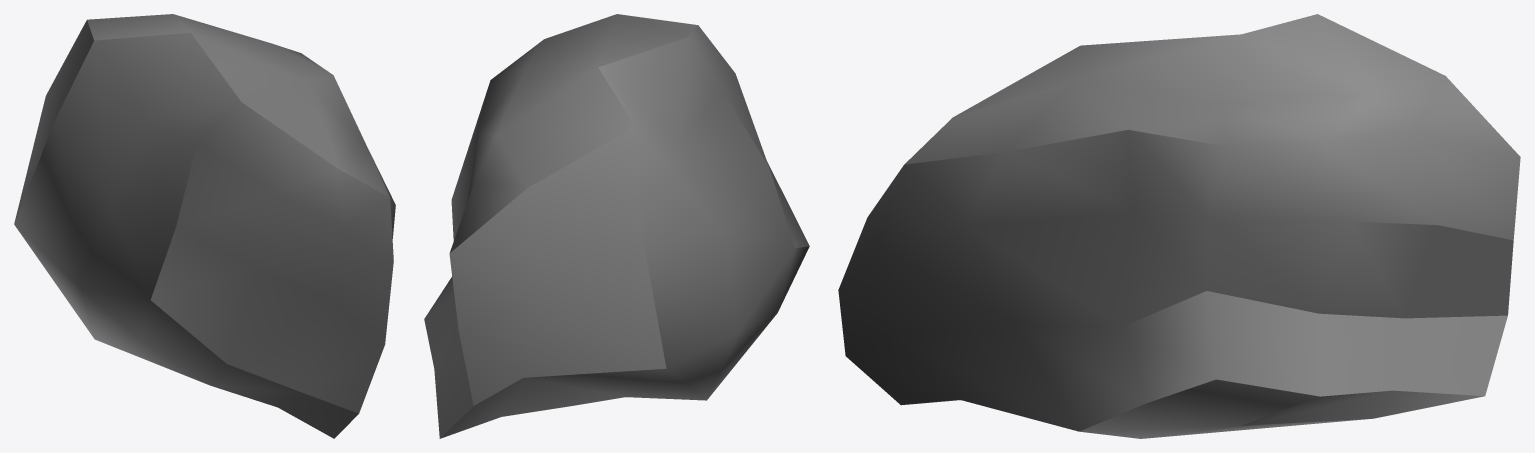
The model's file is sea_rock.glb.
The picture shows the model from 3 angles, left to right: view 1: azimuth 30°, elevation 25°; view 2: azimuth 150°, elevation 25°; view 3: azimuth 270°, elevation 25°; orthographic projection. The views are drawn at different scales.
Visible parts, largest first — view 1: rock; view 2: rock; view 3: rock.
Part boxes in pixels (x1=…): rock: x1=14, y1=14, x2=395, y2=438; rock: x1=424, y1=14, x2=809, y2=438; rock: x1=838, y1=14, x2=1520, y2=438.
Size of the model in its own units: 3.12 by 3.55 by 5.96.
1 material, 1 textured.
